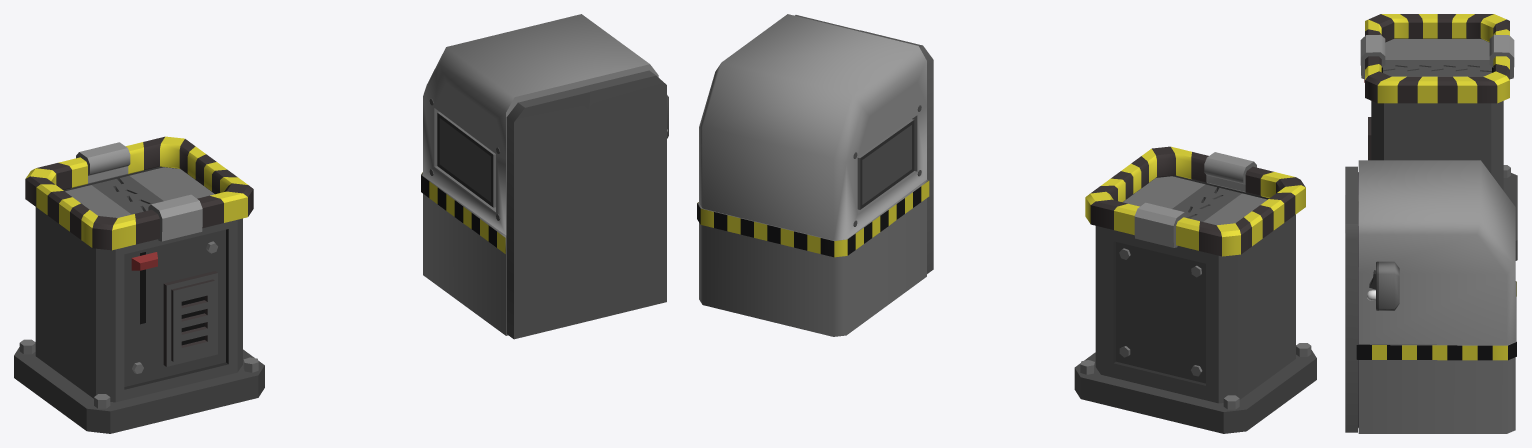
File: DisposalMachines.fbx
3 views of the same model, side by side, from view 1: azimuth 30°, elevation 25°; view 2: azimuth 150°, elevation 25°; view 3: azimuth 270°, elevation 25° (orthographic). The views are drawn at different scales.
Parts seen in each view (by area): view 1: DisposalBin, DisposalOutlet, DisposalOutletDoorR, DisposalOutletDoorL, DisposalBinLidL, DisposalBinLidR; view 2: DisposalOutlet, DisposalBin, DisposalBinLidL, DisposalOutletDoorR, DisposalBinLidR; view 3: DisposalOutlet, DisposalBin, DisposalOutletDoorL, DisposalBinLidR, DisposalBinLidL, DisposalOutletDoorR.
Part boxes in pixels (x1,y1,x2,y2): DisposalBin: [14, 136, 264, 433]; DisposalOutlet: [421, 14, 668, 335]; DisposalOutletDoorR: [506, 87, 590, 339]; DisposalOutletDoorL: [583, 70, 666, 320]; DisposalBinLidL: [115, 167, 214, 211]; DisposalBinLidR: [65, 179, 148, 217]; DisposalOutlet: [697, 14, 929, 336]; DisposalBin: [1074, 146, 1316, 433]; DisposalBinLidL: [1123, 176, 1221, 218]; DisposalOutletDoorR: [859, 30, 933, 273]; DisposalBinLidR: [1189, 188, 1267, 225]; DisposalOutlet: [1356, 160, 1516, 433]; DisposalBin: [1360, 14, 1517, 260]; DisposalOutletDoorL: [1345, 195, 1358, 432]; DisposalBinLidR: [1383, 39, 1491, 72]; DisposalBinLidL: [1383, 66, 1491, 76]; DisposalOutletDoorR: [1345, 166, 1358, 201].
Size of the model in its own units: 2.93 by 1.14 by 0.8412.
